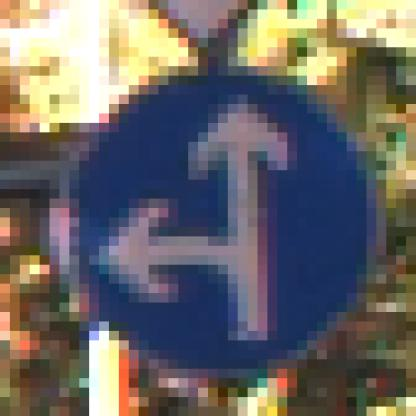Straight or Left: (61, 49, 368, 361)
